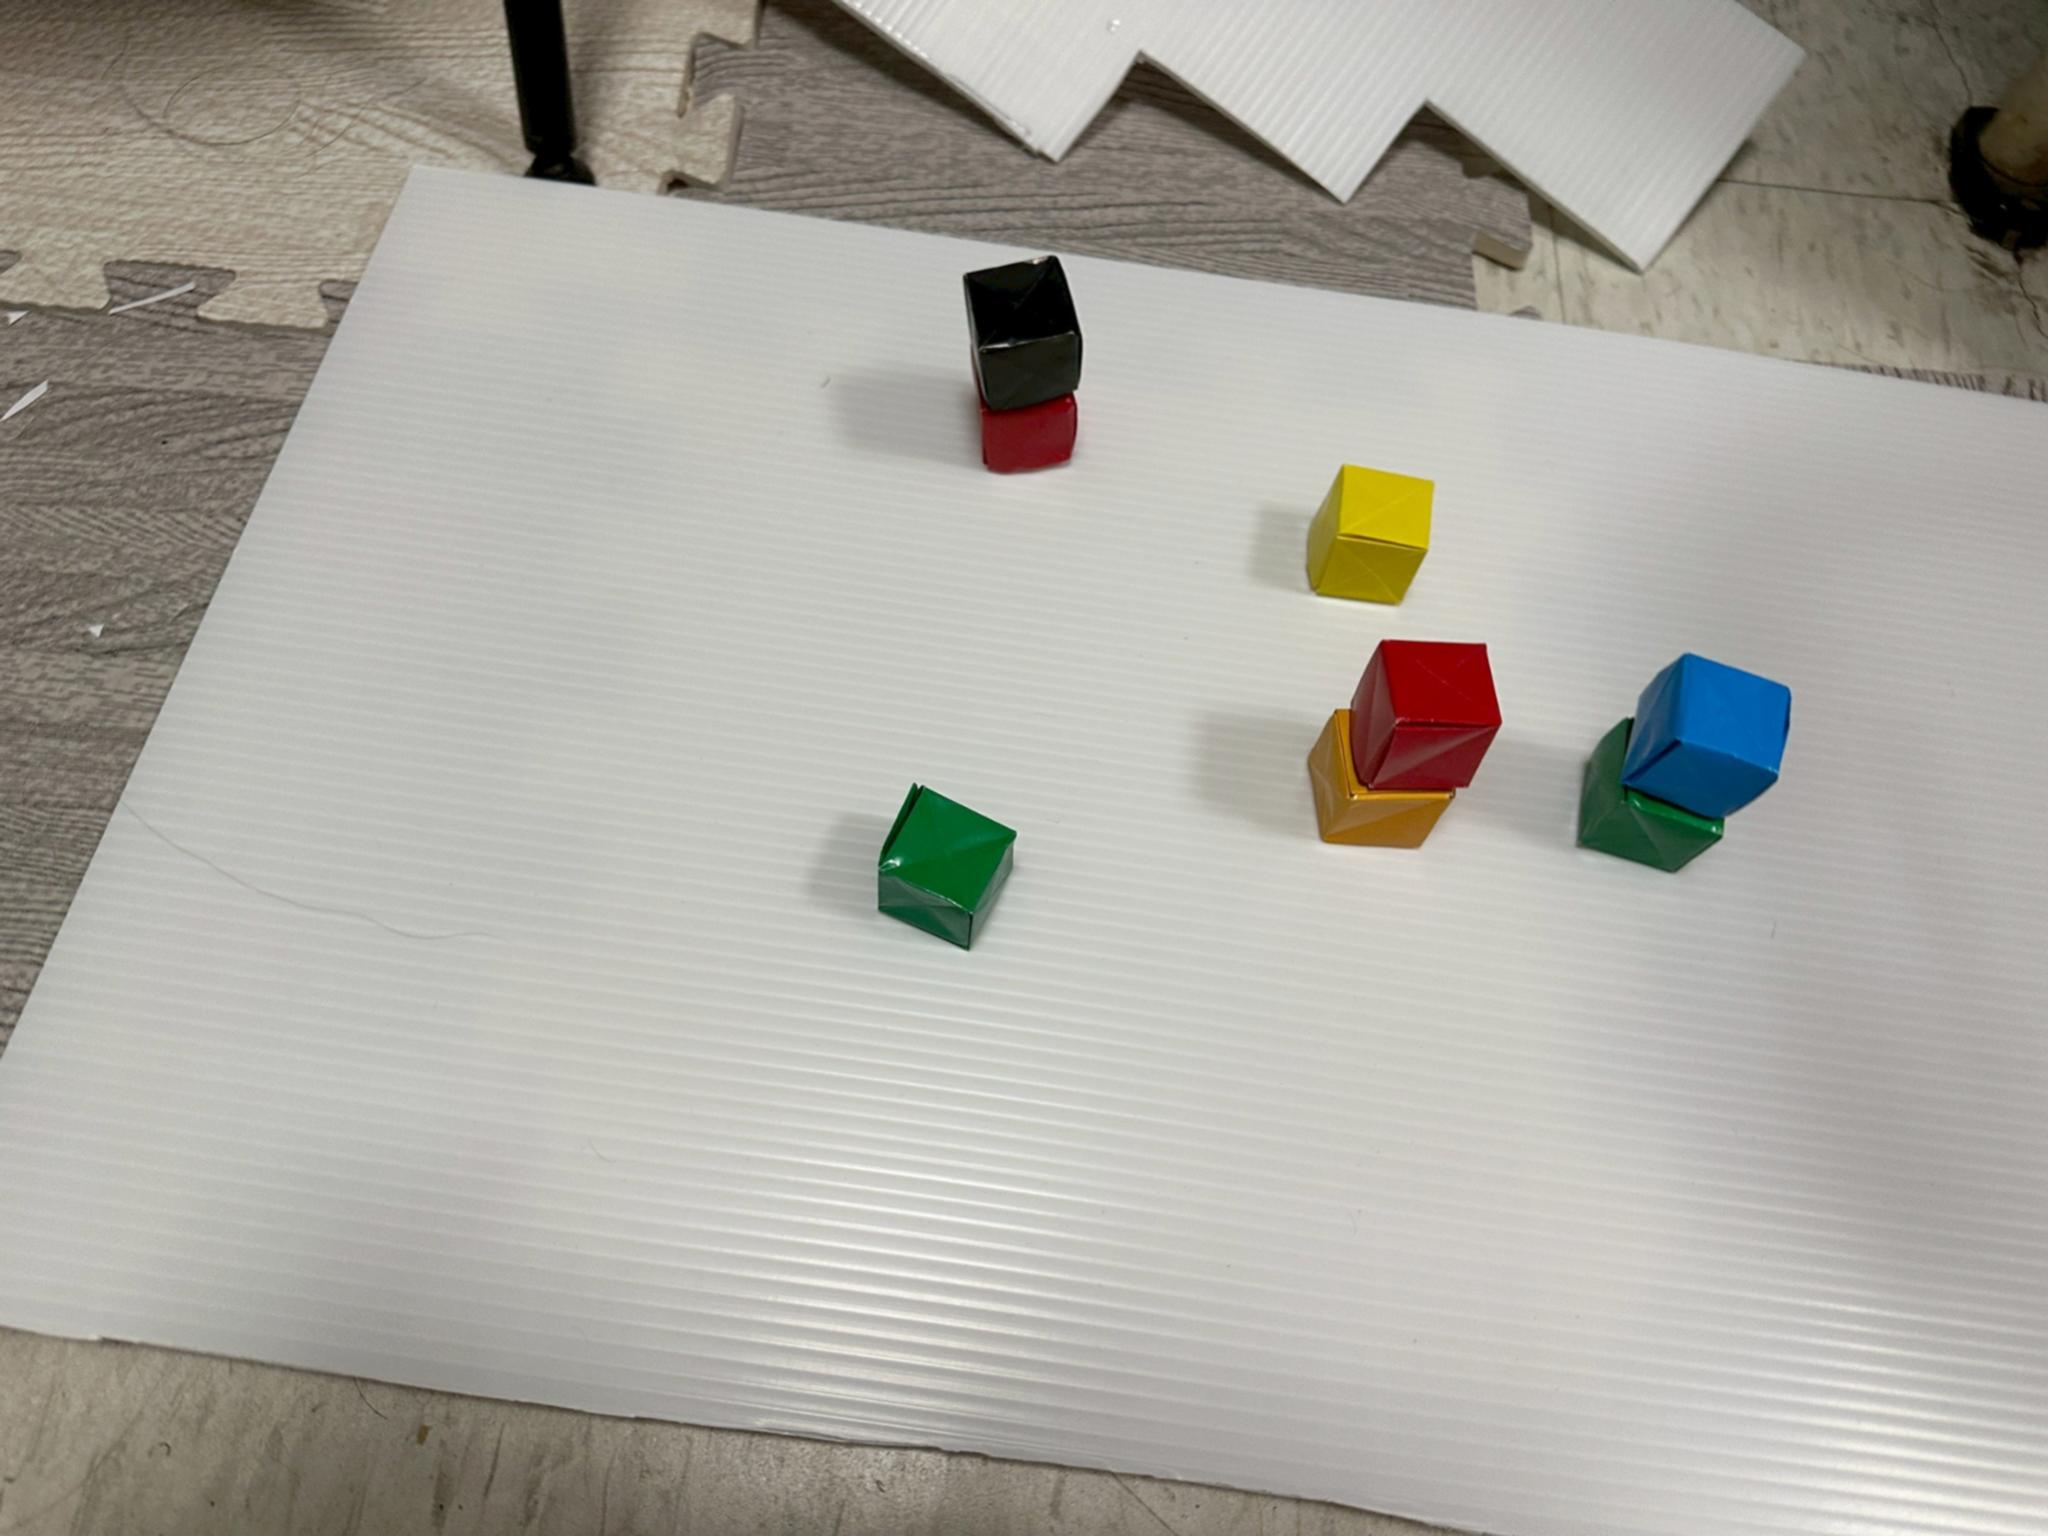cube: (1621, 653, 1790, 818), (1577, 720, 1724, 873), (1353, 639, 1500, 791), (879, 786, 1014, 949), (1308, 708, 1453, 849), (964, 255, 1082, 413), (1308, 465, 1434, 603), (980, 394, 1077, 473)
